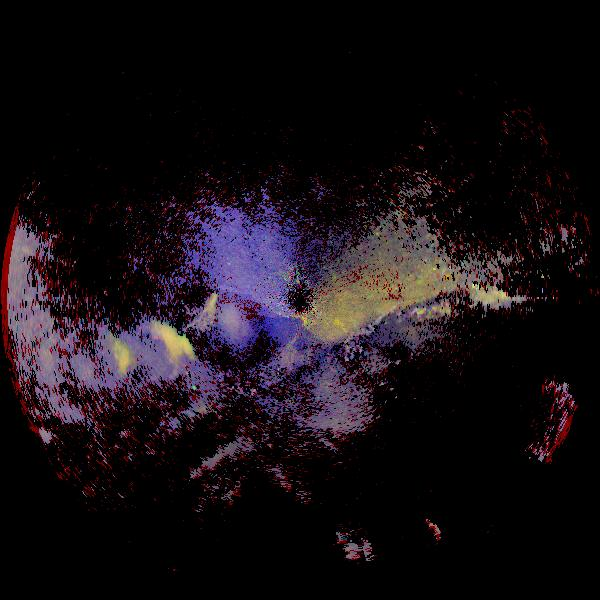roost: (111, 310, 207, 406), (66, 326, 147, 407), (164, 275, 239, 350)
